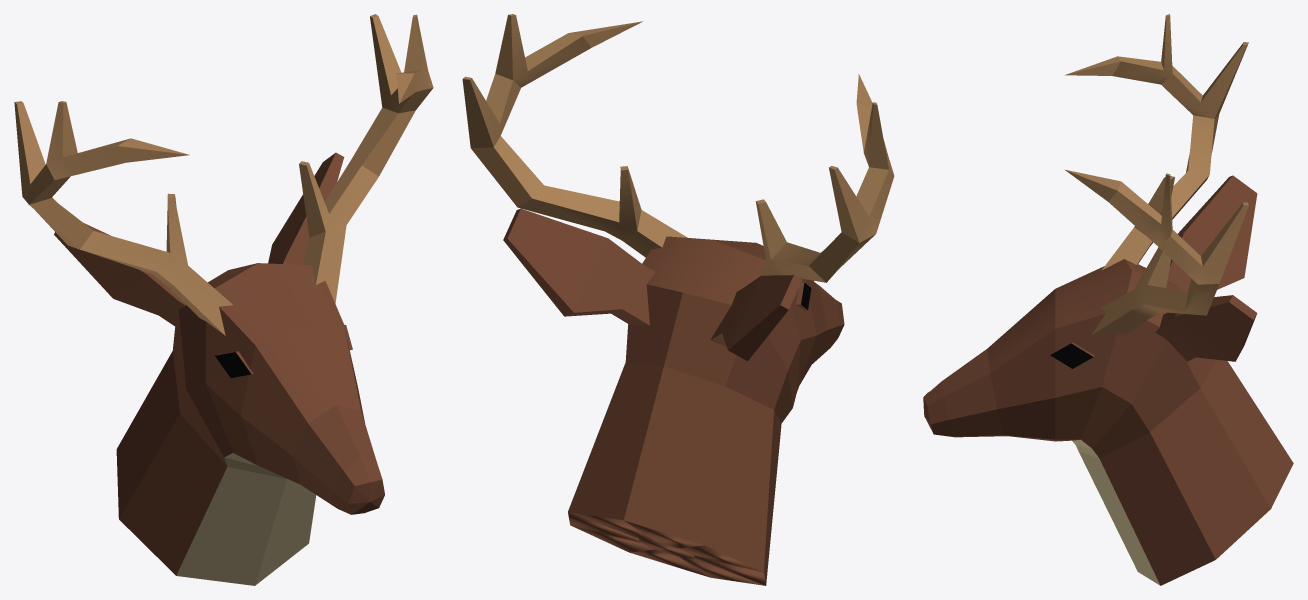
The model's file is DeerMask.fbx.
3 views of the same model, side by side, from view 1: azimuth 30°, elevation 25°; view 2: azimuth 150°, elevation 25°; view 3: azimuth 270°, elevation 25° (orthographic). The views are drawn at different scales.
Visible parts, largest first — view 1: Mesh_Deer; view 2: Mesh_Deer; view 3: Mesh_Deer.
Boxes of the visible parts, box(x1,y1,x2,y2) form: Mesh_Deer: box(14, 14, 433, 585); Mesh_Deer: box(462, 14, 894, 585); Mesh_Deer: box(923, 14, 1293, 585).
Size of the model in its own units: 4026 by 5122 by 3607.
